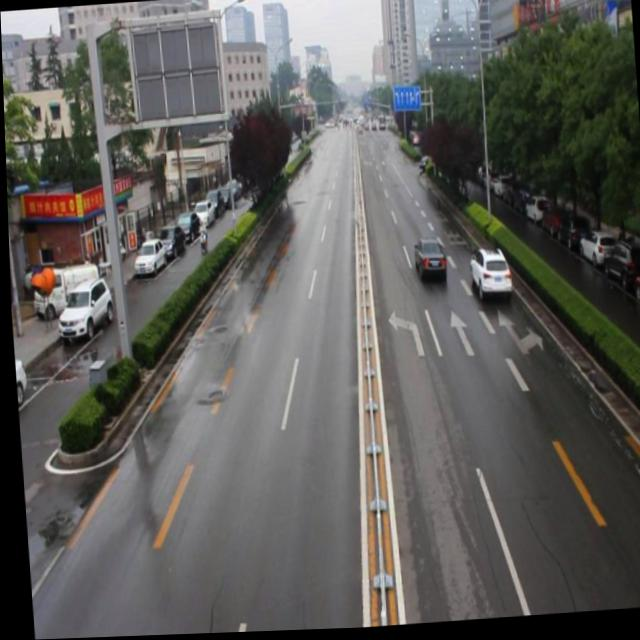car: (466, 248, 510, 302), (410, 240, 446, 282), (416, 158, 427, 174)
